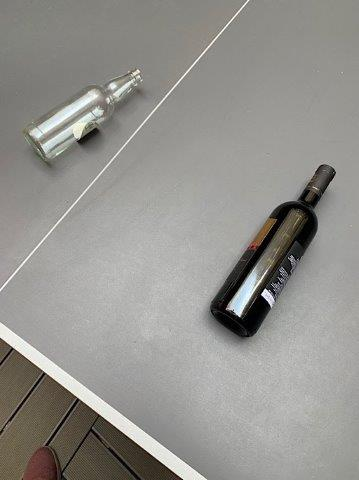botolkaca: (211, 167, 336, 336), (24, 69, 143, 160)
